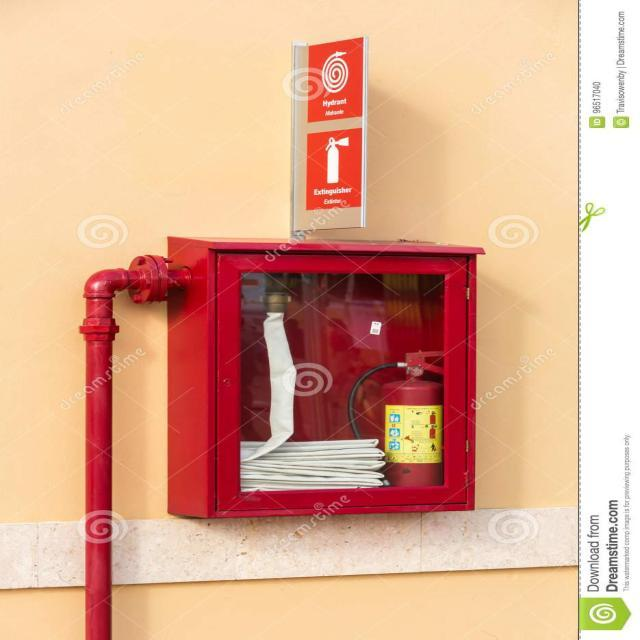fire_extinguisher: (348, 344, 460, 504)
